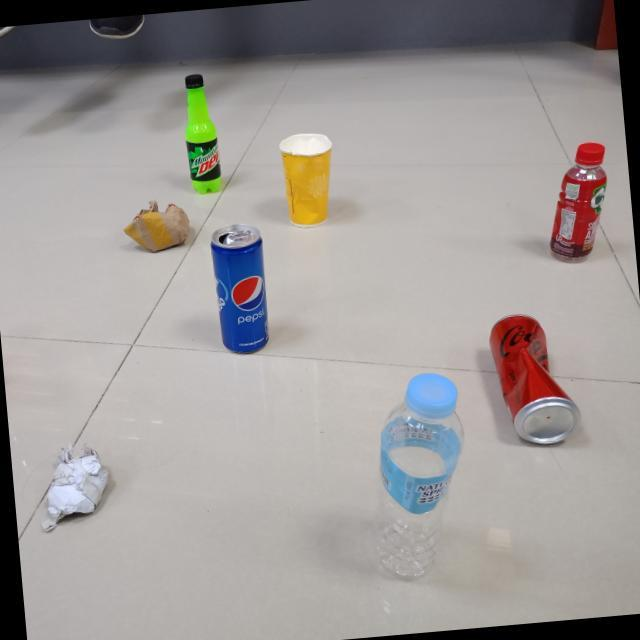recyclable waste: (356, 362, 482, 586), (480, 304, 588, 454), (534, 134, 620, 272), (202, 216, 277, 362), (26, 435, 119, 537), (273, 125, 343, 232), (174, 65, 228, 199), (116, 192, 196, 258)
